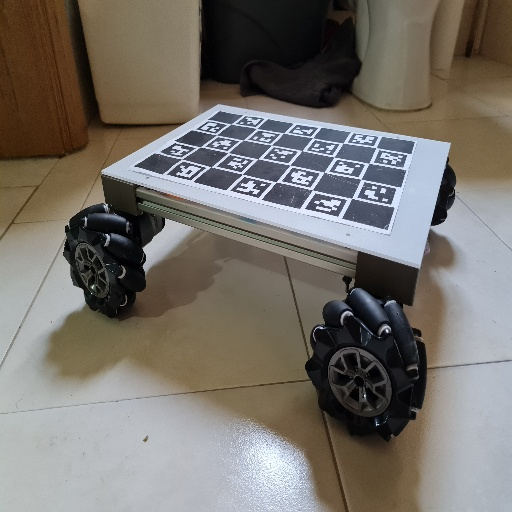Omniwheel: (64, 102, 456, 445)
